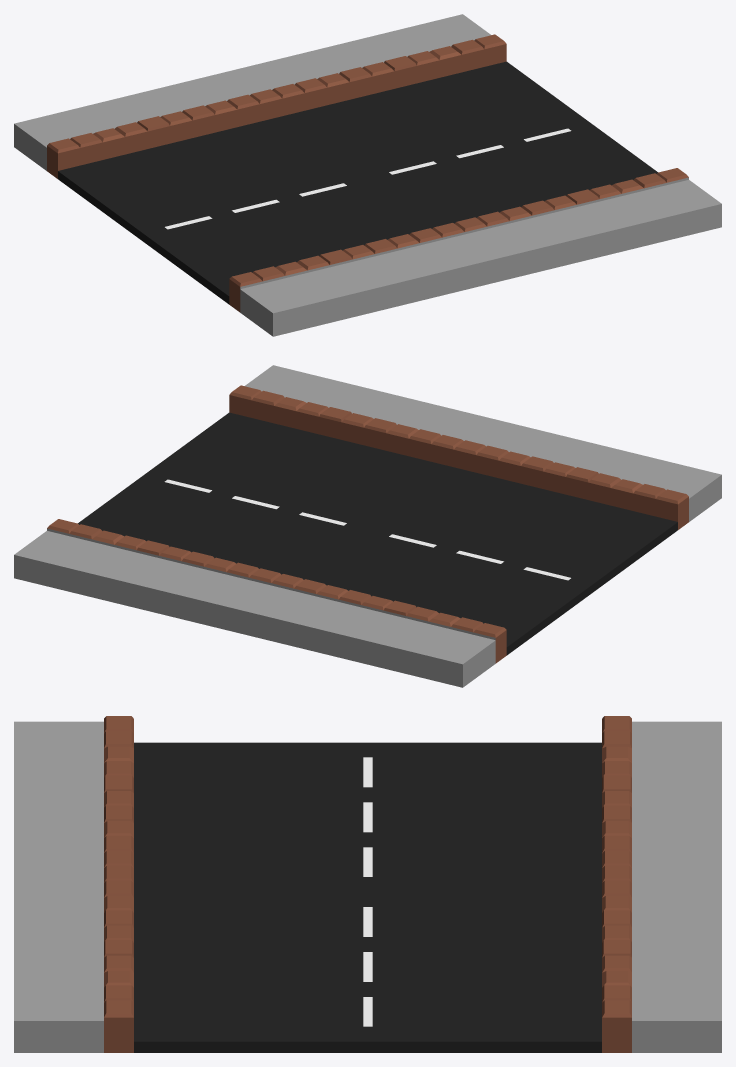
Rendered from road_H_2_Original.fbx.
3 views of the same model, one above another, from view 1: azimuth 30°, elevation 25°; view 2: azimuth 150°, elevation 25°; view 3: azimuth 270°, elevation 25° (orthographic). The views are drawn at different scales.
Visible parts, largest first — view 1: Road_H_2; view 2: Road_H_2; view 3: Road_H_2.
Part boxes in pixels (left/top/right/bottom): Road_H_2: left=14, top=14, right=721, bottom=336; Road_H_2: left=14, top=365, right=721, bottom=687; Road_H_2: left=14, top=716, right=721, bottom=1052.
Size of the model in its own units: 100 by 6.05 by 100.
